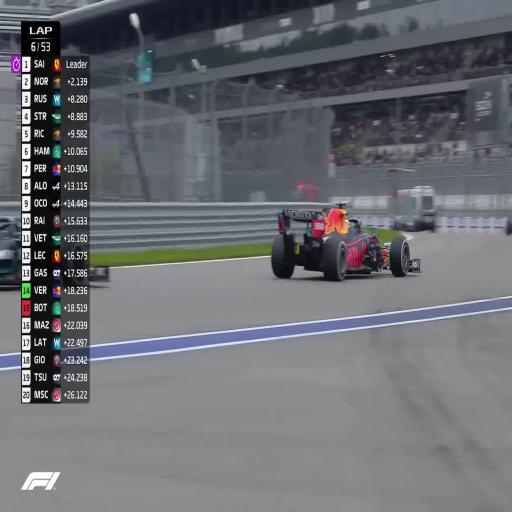f1_car: (271, 203, 421, 281), (0, 217, 22, 285), (59, 258, 110, 285), (71, 246, 83, 252), (52, 246, 59, 249)
